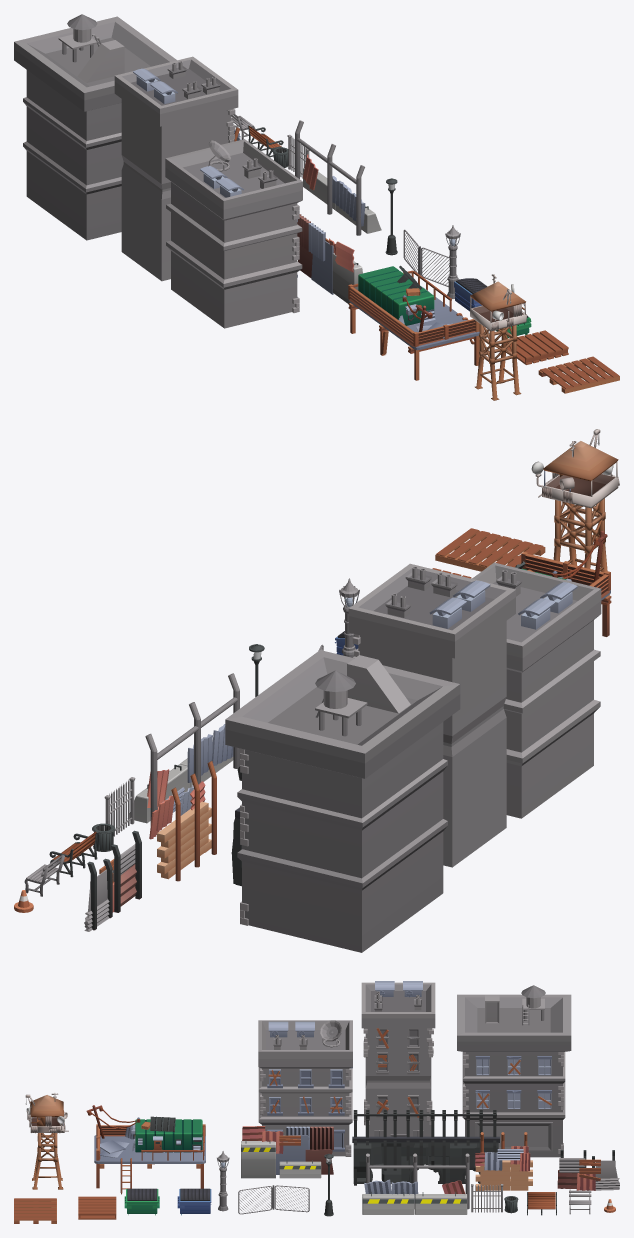
Rendered from TownModels.fbx.
3 renders of one model, top to bottom at view 1: azimuth 30°, elevation 25°; view 2: azimuth 150°, elevation 25°; view 3: azimuth 270°, elevation 25°, orthographic. The views are drawn at different scales.
Parts seen in each view (by area): view 1: Prop_Building_3, Prop_Building_1, Prop_Building_2, Cone.006, Cube.165, Cube.008, Cube.138, Cube.016, Cube, Cube.237, Cube.243, Cylinder.057 (+1 smaller); view 2: Prop_Building_1, Prop_Building_2, Prop_Building_3, Cone.006, Cube.008, Cube.028, Cube.020, Bench_Brown, Cylinder.057, Cube.041; view 3: Prop_Building_1, Prop_Building_3, Prop_Building_2, Cone.006, Cube.165, Cube.138, Cube.087, Cube.237, Cube.244, Cube.176, Cube.020, Cube.254 (+19 smaller).
Part boxes in pixels (left/top/right/bottom): Prop_Building_3: left=165, top=139, right=302, bottom=328; Prop_Building_1: left=14, top=14, right=176, bottom=240; Prop_Building_2: left=114, top=56, right=238, bottom=281; Cone.006: left=470, top=274, right=526, bottom=400; Cube.165: left=358, top=266, right=434, bottom=325; Cube.008: left=540, top=356, right=619, bottom=388; Cube.138: left=349, top=297, right=479, bottom=350; Cube.016: left=349, top=286, right=414, bottom=346; Cube: left=506, top=330, right=568, bottom=359; Cube.237: left=332, top=253, right=362, bottom=303; Cube.243: left=311, top=241, right=333, bottom=294; Cylinder.057: left=445, top=225, right=460, bottom=298; Prop_Building_1: left=225, top=650, right=460, bottom=952; Prop_Building_2: left=348, top=563, right=515, bottom=867; Prop_Building_3: left=472, top=562, right=601, bottom=818; Cone.006: left=531, top=429, right=619, bottom=572; Cube.008: left=436, top=528, right=543, bottom=567; Cube.028: left=104, top=777, right=135, bottom=836; Cube.020: left=127, top=764, right=190, bottom=823; Bench_Brown: left=49, top=831, right=97, bottom=877; Cylinder.057: left=339, top=578, right=359, bottom=657; Cube.041: left=24, top=854, right=64, bottom=896; Prop_Building_1: left=457, top=985, right=571, bottom=1157; Prop_Building_3: left=258, top=1020, right=352, bottom=1156; Prop_Building_2: left=361, top=981, right=435, bottom=1136; Cone.006: left=25, top=1093, right=68, bottom=1189; Cube.165: left=135, top=1119, right=202, bottom=1152; Cube.138: left=94, top=1135, right=205, bottom=1163; Cube.087: left=353, top=1142, right=401, bottom=1183; Cube.237: left=241, top=1141, right=275, bottom=1178; Cube.244: left=401, top=1142, right=449, bottom=1183; Cube.176: left=362, top=1194, right=414, bottom=1214; Cube.020: left=415, top=1194, right=467, bottom=1214; Cube.254: left=450, top=1142, right=498, bottom=1183.
Size of the model in its own units: 2016 by 1453 by 4922.
Materials: 9 (9 with a texture image).
